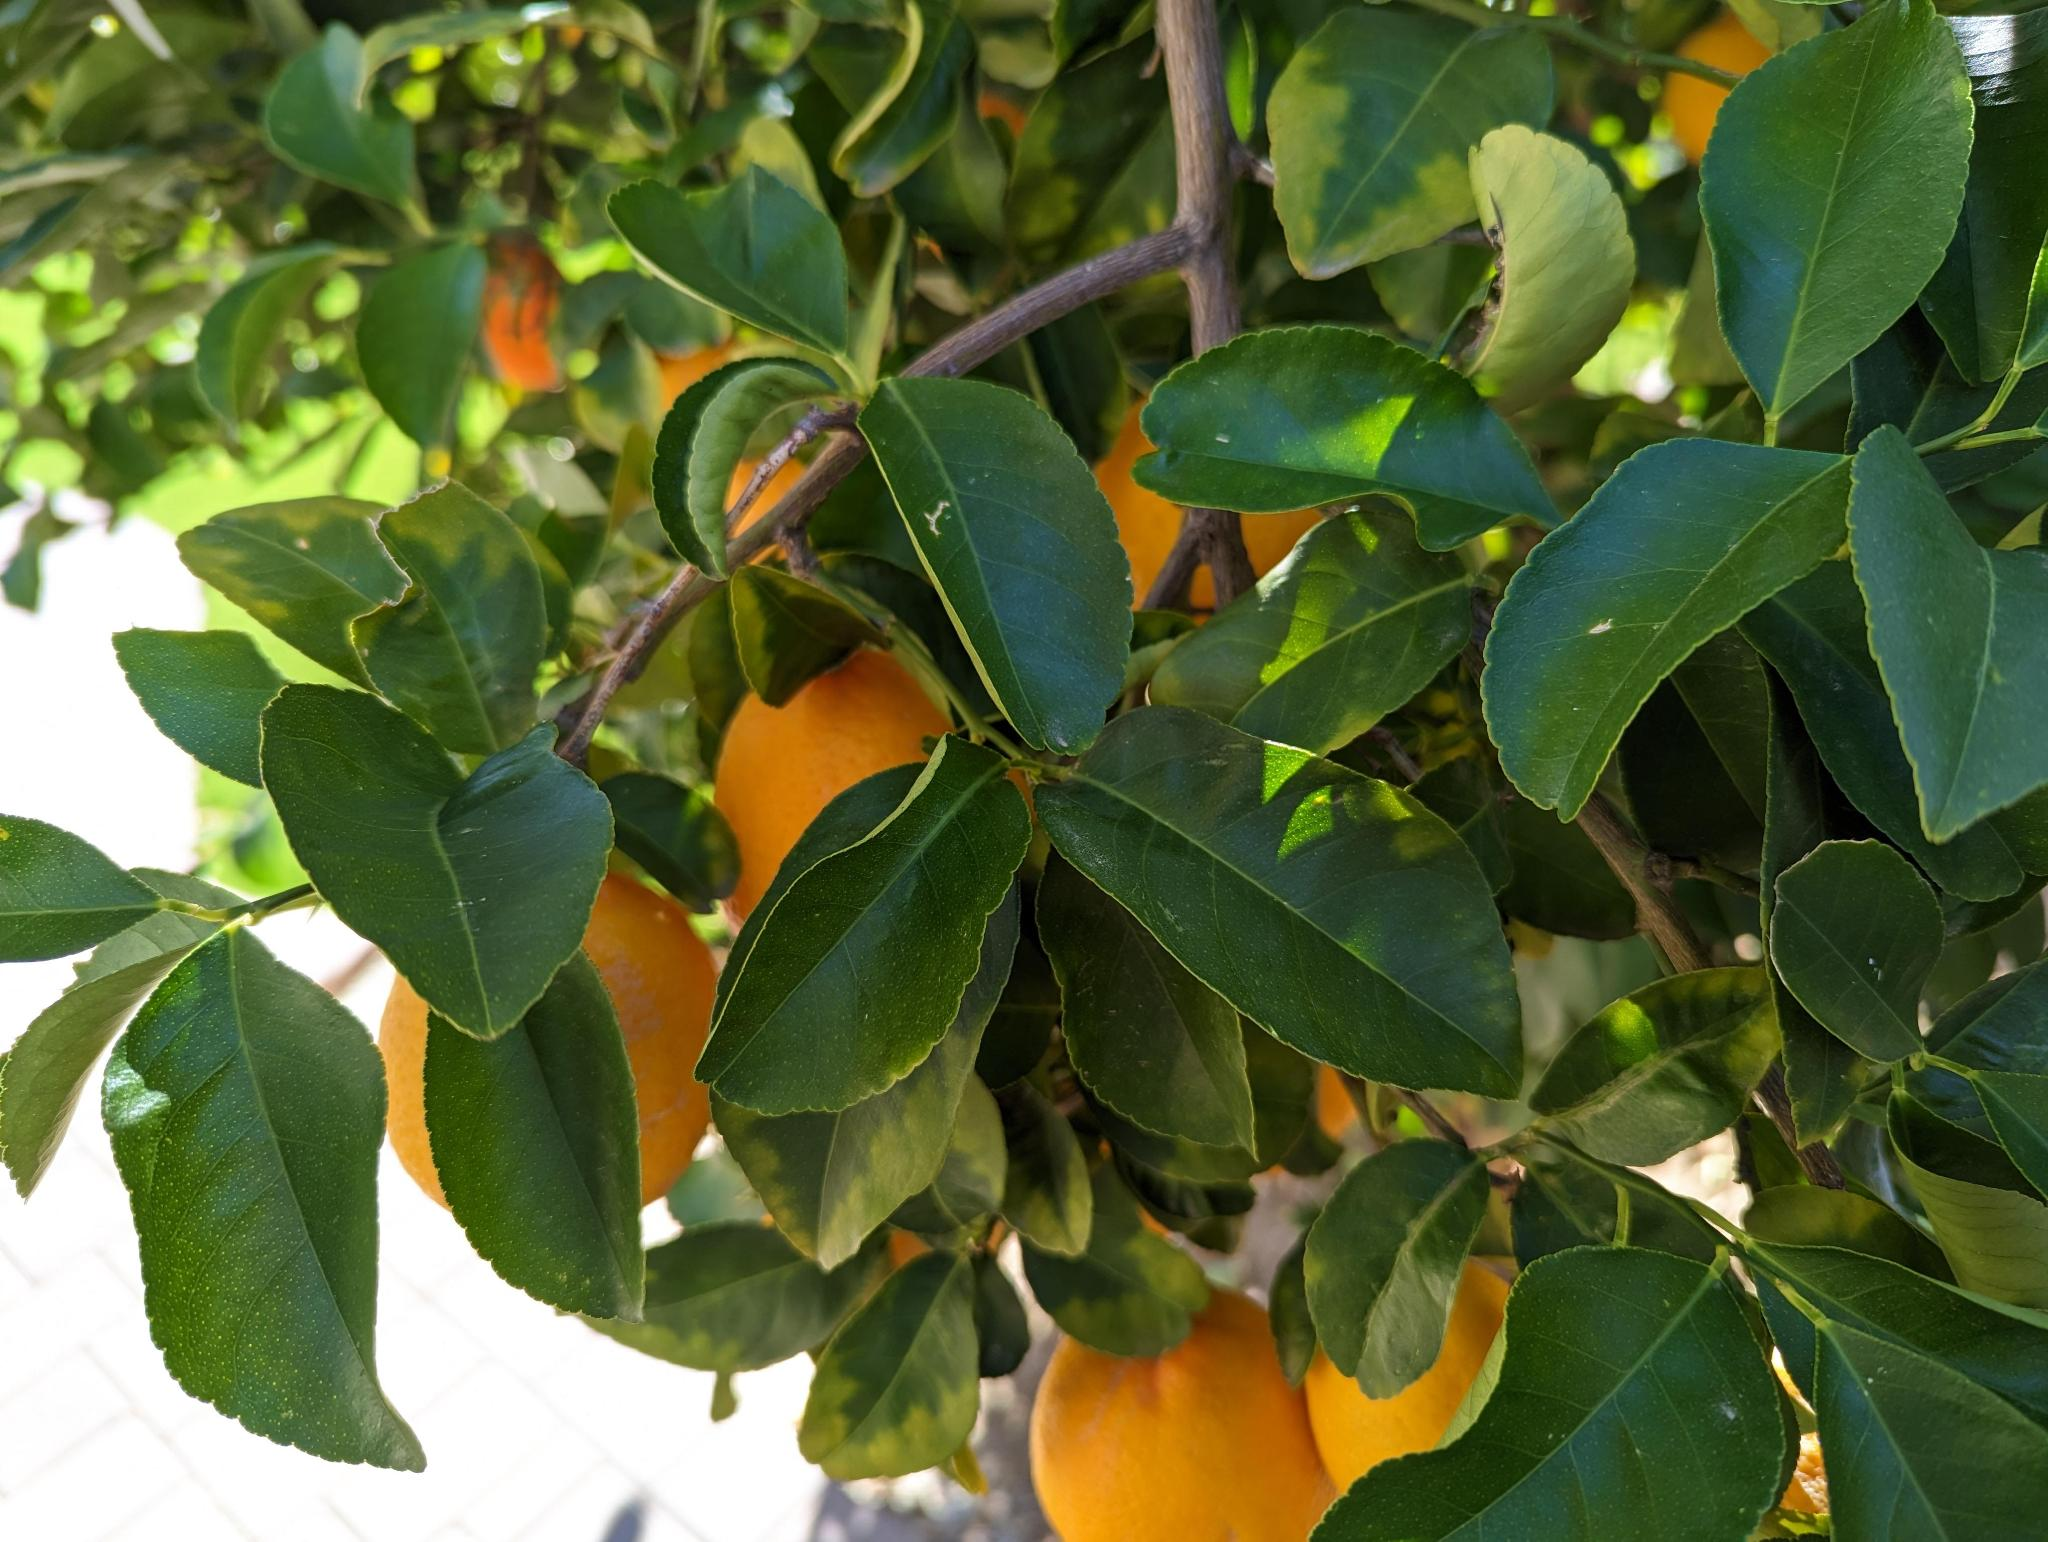Healthy Citrus: (1049, 706, 1548, 1101), (99, 943, 436, 1490), (1481, 428, 1860, 834), (267, 675, 617, 1020), (1384, 1228, 1758, 1542), (704, 752, 1020, 1100), (397, 918, 651, 1330), (1732, 1218, 2048, 1542), (1703, 10, 1964, 394), (1852, 428, 2046, 799)
